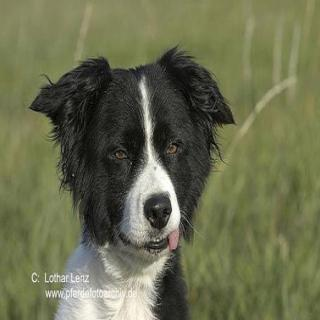dog: (33, 43, 235, 269)
nose: (141, 189, 172, 229)
